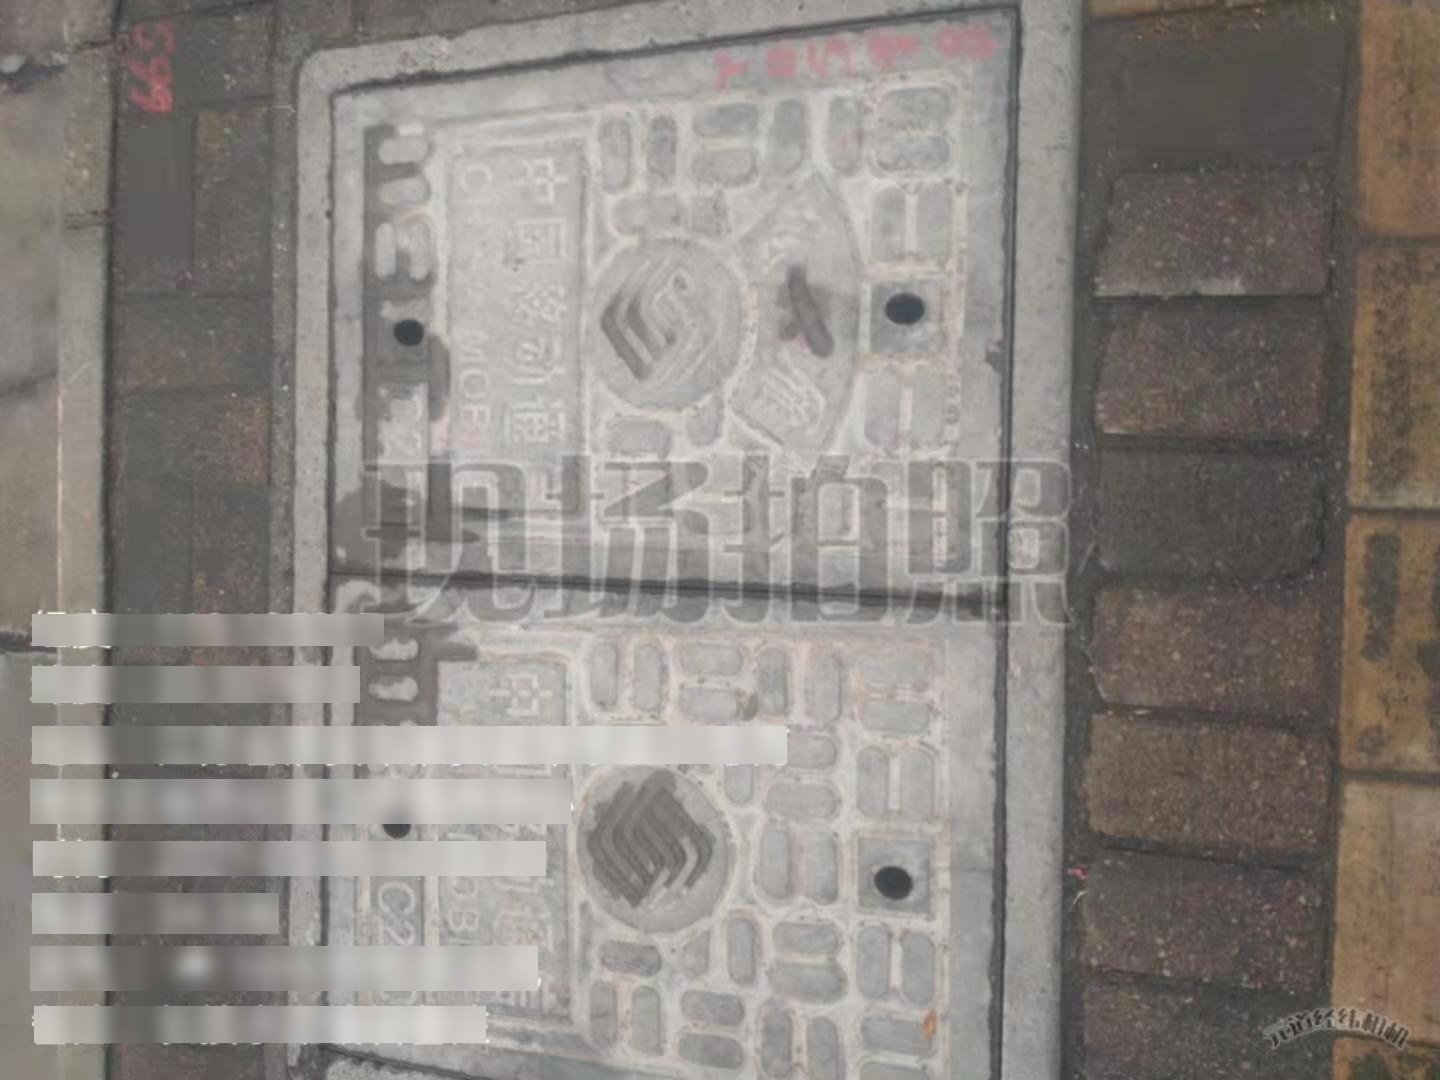good: (278, 3, 1078, 1080)
